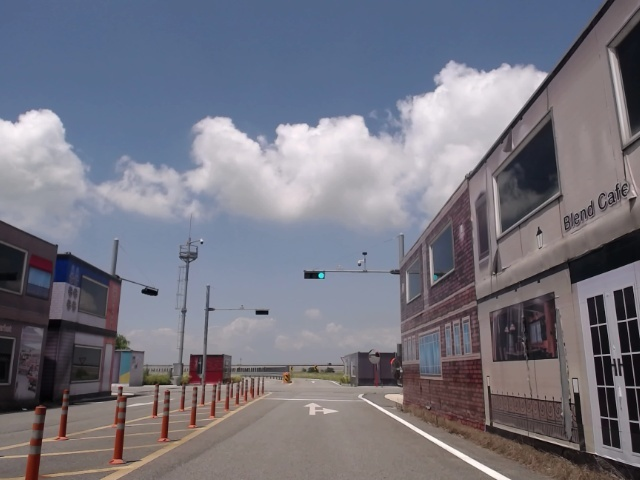green_3: (304, 271, 325, 280)
